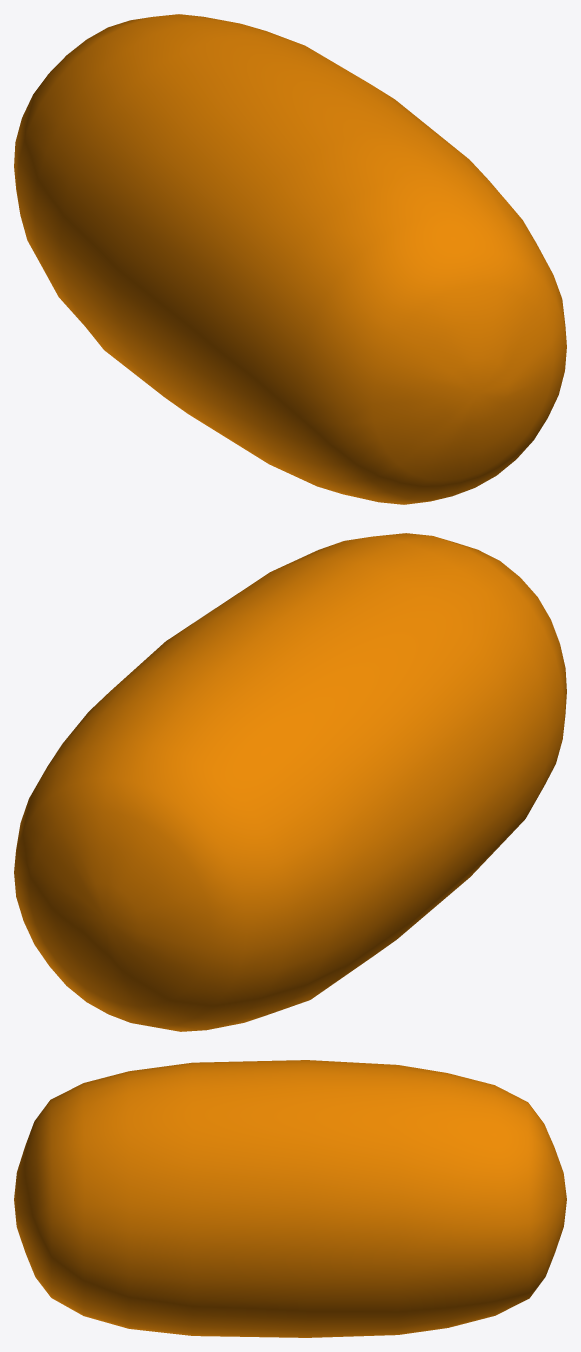
Rendered from mitochiondria.fbx.
3 renders of one model, top to bottom at view 1: azimuth 30°, elevation 25°; view 2: azimuth 150°, elevation 25°; view 3: azimuth 270°, elevation 25°, orthographic. The views are drawn at different scales.
Visible parts, largest first — view 1: omm; view 2: omm; view 3: omm.
Boxes of the visible parts, x1=… form: omm: x1=14, y1=14, x2=566, y2=504; omm: x1=14, y1=533, x2=566, y2=1031; omm: x1=14, y1=1060, x2=566, y2=1337.
Size of the model in its own units: 214 by 216 by 428.
